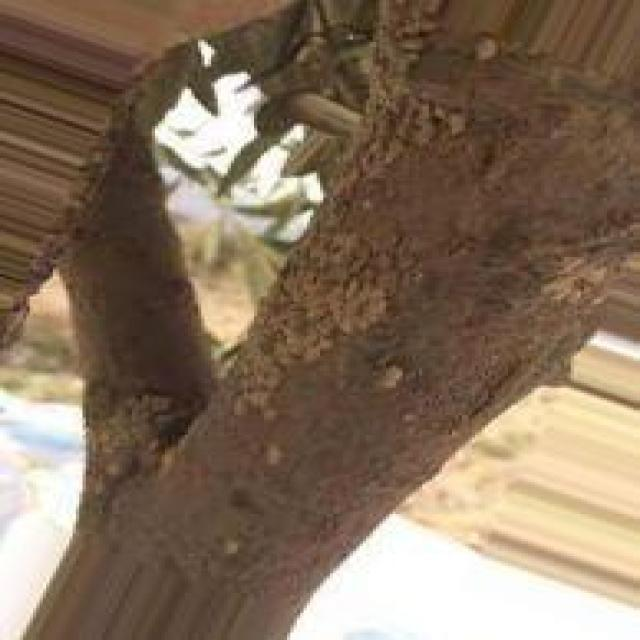Tuberculosis: (218, 222, 390, 420)
